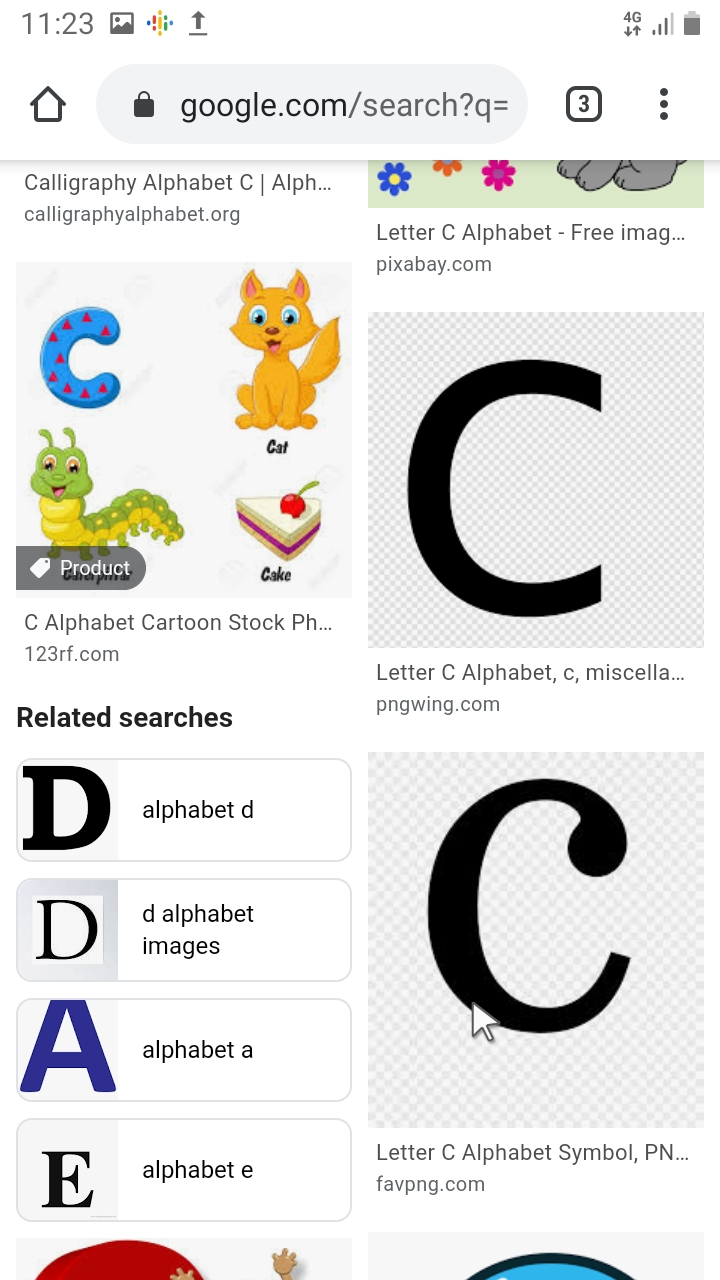zone C: (400, 335, 637, 643), (417, 770, 643, 1068), (31, 282, 147, 429)
